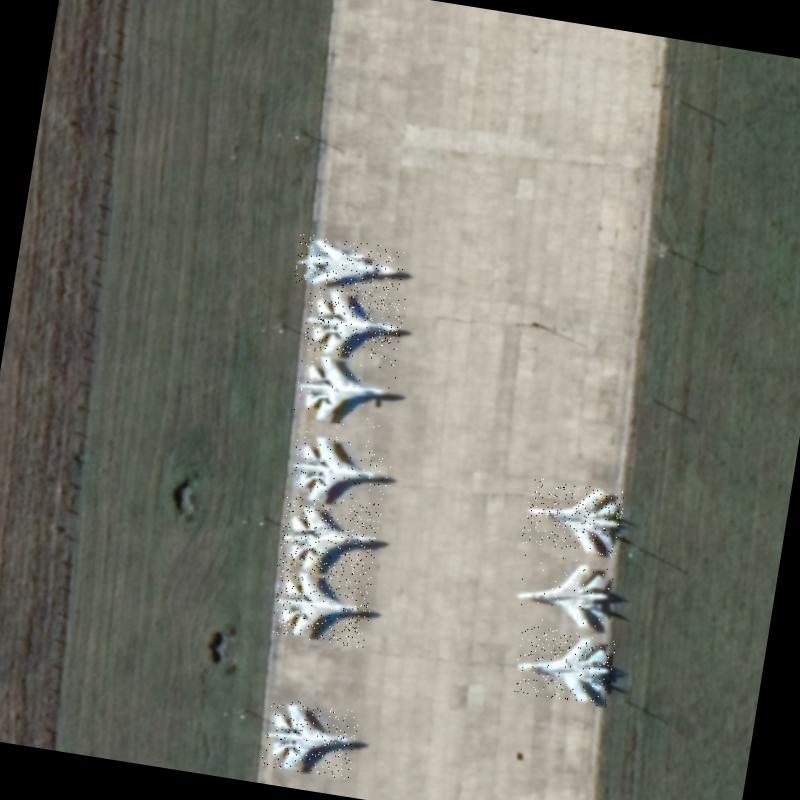A1: (286, 430, 394, 514), (292, 349, 398, 432), (511, 624, 616, 707), (520, 476, 626, 558), (270, 566, 374, 648), (277, 498, 381, 580), (301, 284, 407, 364), (260, 696, 360, 780), (512, 551, 614, 632)
A20: (292, 232, 406, 298)
